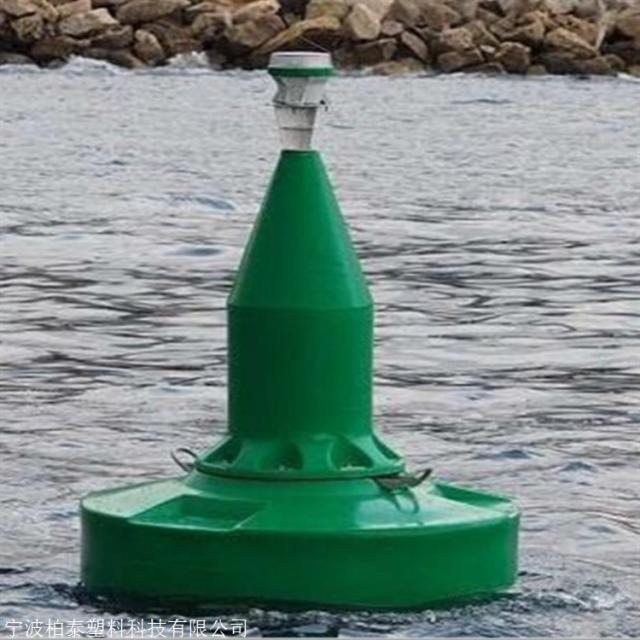buoy: (78, 46, 526, 612)
